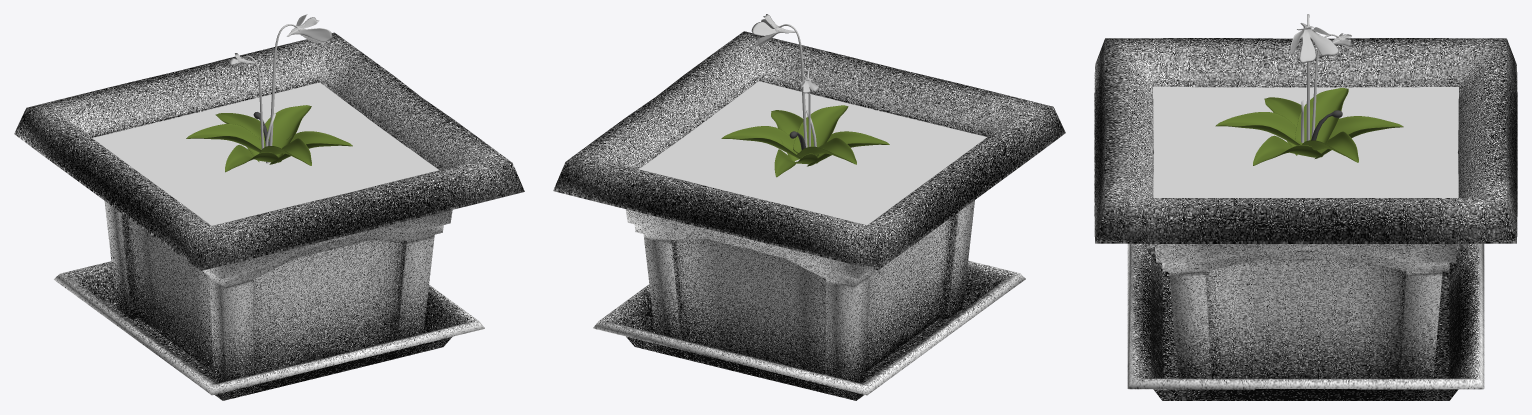
File: zhiryanka.fbx
3 views of the same model, side by side, from view 1: azimuth 30°, elevation 25°; view 2: azimuth 150°, elevation 25°; view 3: azimuth 270°, elevation 25° (orthographic). The views are drawn at different scales.
Parts seen in each view (by area): view 1: Gorshok_low, Earth, Podstavka_low, Plane.002, Plane.001, Plane.003, Plane.005, Flower_low.002, Plane.004, Plane, Cube; view 2: Gorshok_low, Earth, Podstavka_low, Plane, Plane.002, Plane.001, Plane.005, Plane.003, Flower_low.002, Plane.004; view 3: Gorshok_low, Earth, Podstavka_low, Plane.001, Plane, Flower_low.002, Plane.004, Plane.003, Plane.002, Plane.005.
Part boxes in pixels (bbox=[...]): Gorshok_low: bbox=[14, 32, 524, 383]; Earth: bbox=[92, 82, 438, 225]; Podstavka_low: bbox=[54, 261, 484, 400]; Plane.002: bbox=[259, 105, 311, 156]; Plane.001: bbox=[186, 124, 265, 152]; Plane.003: bbox=[269, 131, 352, 164]; Plane.005: bbox=[225, 145, 281, 172]; Flower_low.002: bbox=[287, 14, 332, 44]; Plane.004: bbox=[215, 113, 260, 161]; Plane: bbox=[259, 138, 311, 165]; Cube: bbox=[269, 24, 304, 145]; Gorshok_low: bbox=[553, 31, 1065, 382]; Earth: bbox=[639, 81, 986, 225]; Podstavka_low: bbox=[593, 260, 1025, 400]; Plane: bbox=[793, 105, 848, 156]; Plane.002: bbox=[721, 126, 800, 159]; Plane.001: bbox=[796, 137, 856, 164]; Plane.005: bbox=[807, 131, 889, 166]; Plane.003: bbox=[771, 110, 803, 161]; Flower_low.002: bbox=[749, 14, 795, 48]; Plane.004: bbox=[774, 149, 817, 177]; Gorshok_low: bbox=[1094, 38, 1517, 378]; Earth: bbox=[1153, 87, 1458, 197]; Podstavka_low: bbox=[1127, 243, 1484, 400]; Plane.001: bbox=[1295, 87, 1348, 143]; Plane: bbox=[1215, 112, 1302, 145]; Flower_low.002: bbox=[1290, 23, 1338, 63]; Plane.004: bbox=[1315, 116, 1403, 158]; Plane.003: bbox=[1253, 135, 1323, 165]; Plane.002: bbox=[1302, 131, 1358, 162]; Plane.005: bbox=[1264, 97, 1301, 155].
Size of the model in its own units: 50.01 by 44.01 by 50.01.
